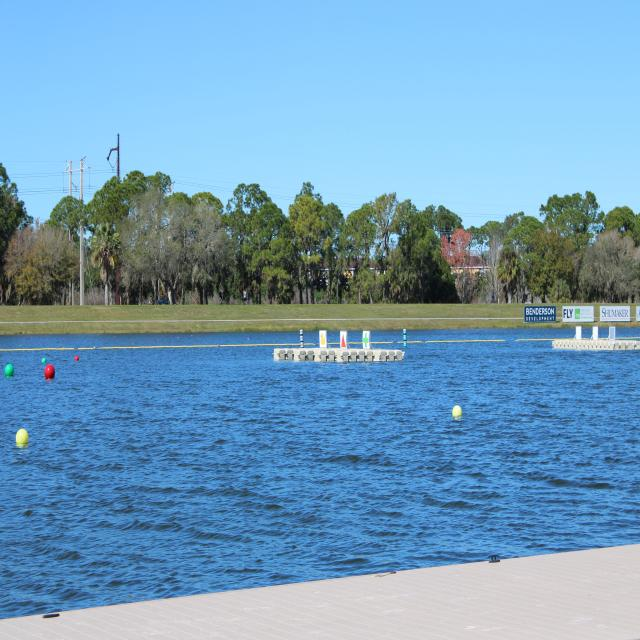blue-cross: (362, 328, 368, 349)
green-buoy: (5, 362, 14, 377)
red-buoy: (44, 363, 54, 379)
red-dot: (339, 329, 348, 352)
yellow-buoy: (14, 428, 28, 447), (450, 407, 460, 420)
yellow-duck: (318, 331, 326, 349)
